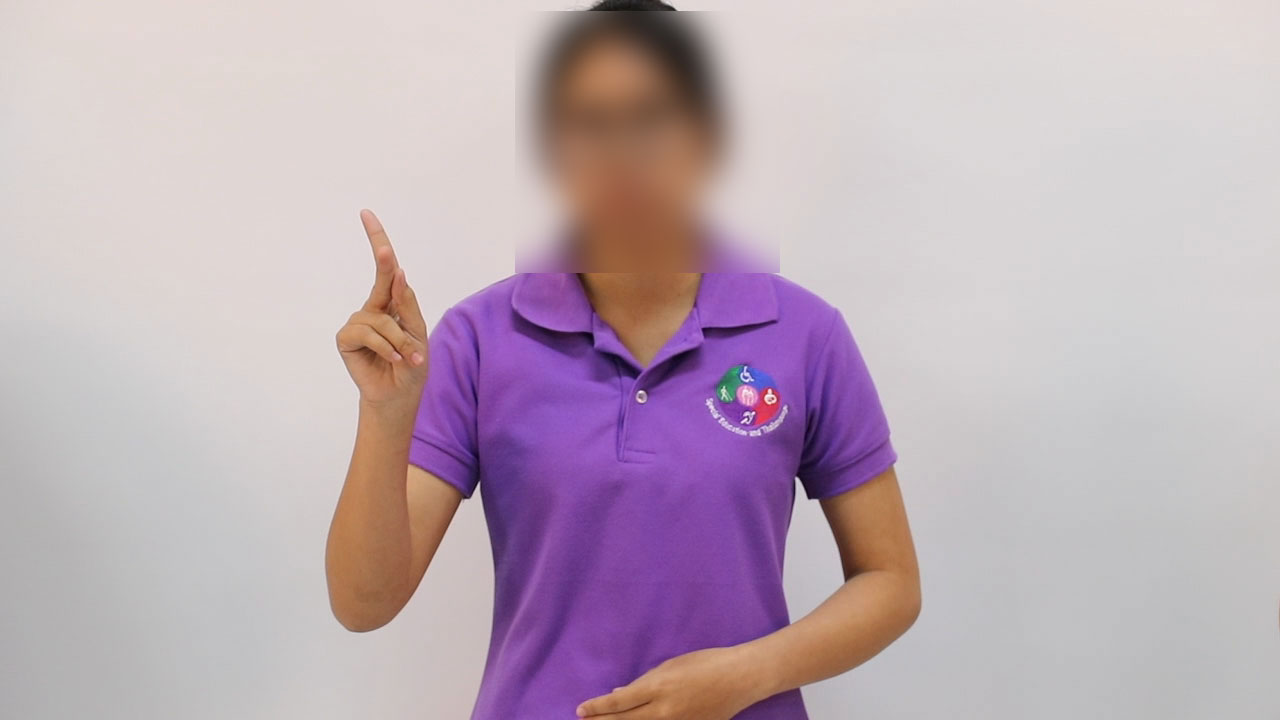ko: (309, 195, 467, 415)
